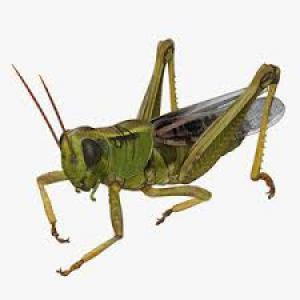locust: (26, 33, 297, 290)
